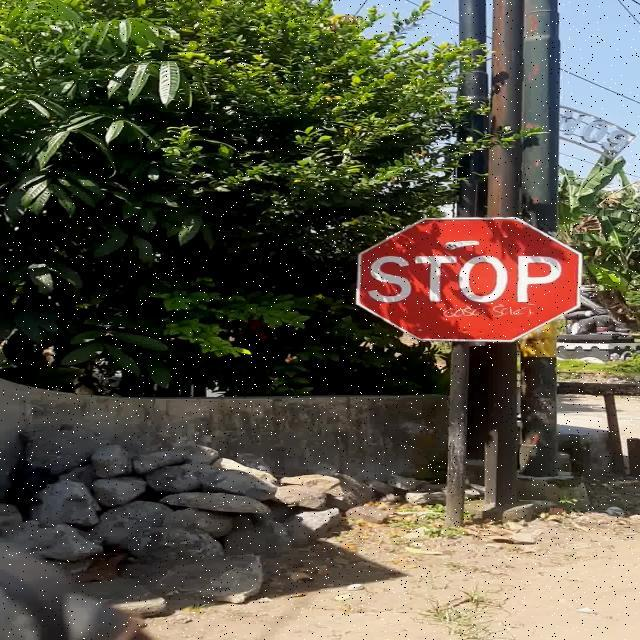Berhenti: (356, 217, 582, 343)
